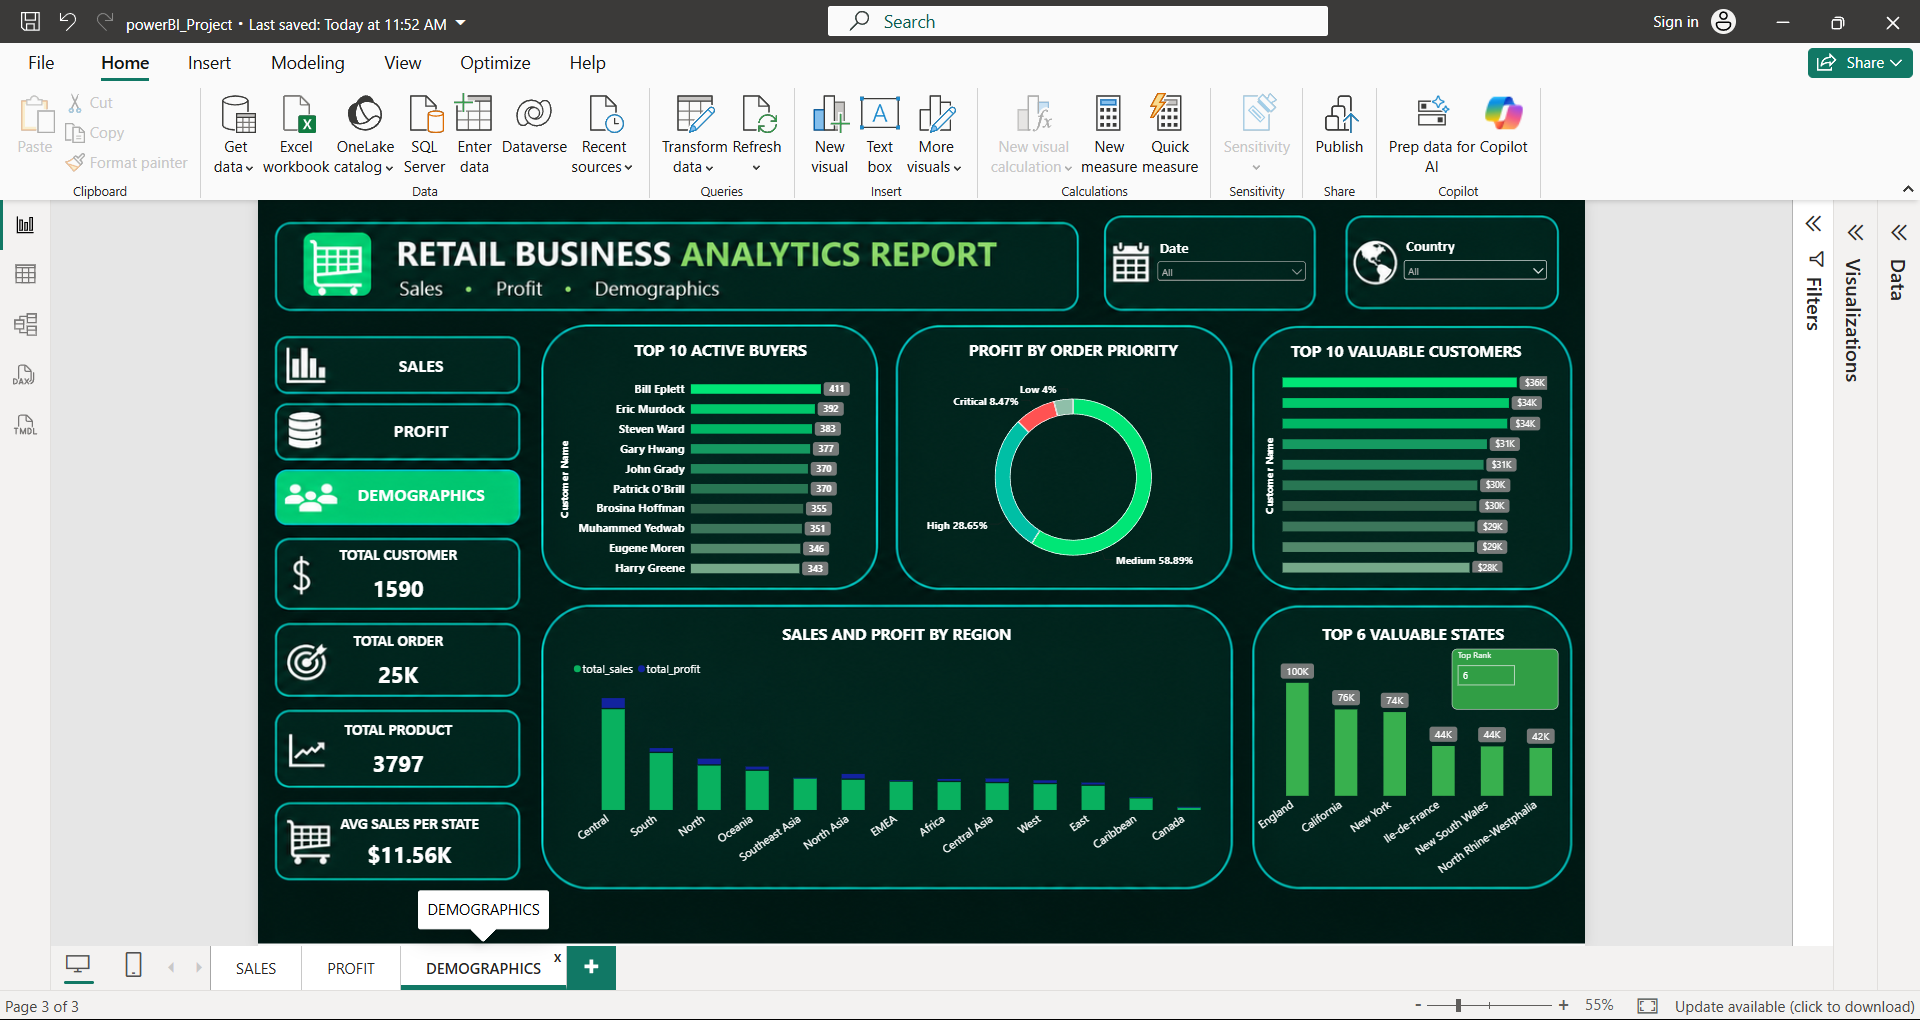

What the dashboard file says about the page in this screenshot:
{"tool":"powerbi","page":{"name":"DEMOGRAPHICS","canvas":[1920,1080],"ordinal":2},"visuals":[{"type":"slicer","fields":{"Values":["location_table.Country"]},"box":[1654,54.3,217.2,90.5],"z":0},{"type":"donutChart","title":"PROFIT BY ORDER PRIORITY","fields":{"Category":["sales_table.Order Priority"],"Y":["Calculated_Table.total_profit"]},"box":[937.1,185.7,485.7,384.3],"z":1000},{"type":"columnChart","title":"SALES AND PROFIT BY REGION","fields":{"Category":["location_table.Region"],"Y":["Calculated_Table.total_sales","Calculated_Table.total_profit"]},"box":[440,597.5,970,397.5],"z":2000},{"type":"clusteredBarChart","title":"TOP 10 ACTIVE BUYERS","fields":{"Category":["customer_table.Customer Name"],"Y":["Calculated_Table.total_qty"]},"box":[421.7,186.4,495.8,381.8],"z":3000},{"type":"clusteredBarChart","title":"TOP 10 VALUABLE CUSTOMERS","fields":{"Category":["customer_table.Customer ID"],"Y":["Calculated_Table.total_sales"]},"box":[1442.5,187.5,440,367.5],"z":4000},{"type":"columnChart","fields":{"Category":["location_table.State"],"Y":["Calculated_Table.sales_rank"]},"box":[1424,598,496,418],"z":5000},{"type":"card","title":"TOTAL CUSTOMER","fields":{"Values":["Calculated_Table.Total Customers"]},"box":[38.3,485,330,112.5],"z":6000},{"type":"slicer","fields":{"Values":["date_table.year"]},"box":[1296.7,56.7,224.4,90.5],"z":7000},{"type":"textbox","box":[150,320,300,150],"z":8000},{"type":"pageNavigator","box":[105,198.3,263.3,271.7],"z":9000},{"type":"card","title":"AVG SALES PER STATE","fields":{"Values":["Calculated_Table.avg_Sales_per_State"]},"box":[55,873.3,330,105],"z":10000},{"type":"card","title":"TOTAL PRODUCT","fields":{"Values":["Calculated_Table.total_product"]},"box":[38.3,738.3,330,112.5],"z":11000},{"type":"card","title":"TOTAL ORDER","fields":{"Values":["Calculated_Table.total_order"]},"box":[38.3,610,330,112.5],"z":12000},{"type":"slicer","fields":{"Values":["Rank_value.Rank_value"]},"box":[1728,650,154,88],"z":13000}]}

Visuals, with their boxes on the page's 1920x1080 design canvas (x1, y1, x2, y2). These are canvas units, not pixel positions in the 1920x1020 screenshot, which may show the page scaled, cropped or inside an application window:
slicer - location_table.Country: l=1654, t=54, r=1871, b=145
"PROFIT BY ORDER PRIORITY" donutChart: l=937, t=186, r=1423, b=570
"SALES AND PROFIT BY REGION" columnChart: l=440, t=598, r=1410, b=995
"TOP 10 ACTIVE BUYERS" clusteredBarChart: l=422, t=186, r=918, b=568
"TOP 10 VALUABLE CUSTOMERS" clusteredBarChart: l=1442, t=188, r=1882, b=555
columnChart - location_table.State x Calculated_Table.sales_rank: l=1424, t=598, r=1920, b=1016
"TOTAL CUSTOMER" card: l=38, t=485, r=368, b=598
slicer - date_table.year: l=1297, t=57, r=1521, b=147
textbox: l=150, t=320, r=450, b=470
pageNavigator: l=105, t=198, r=368, b=470
"AVG SALES PER STATE" card: l=55, t=873, r=385, b=978
"TOTAL PRODUCT" card: l=38, t=738, r=368, b=851
"TOTAL ORDER" card: l=38, t=610, r=368, b=722
slicer - Rank_value.Rank_value: l=1728, t=650, r=1882, b=738
